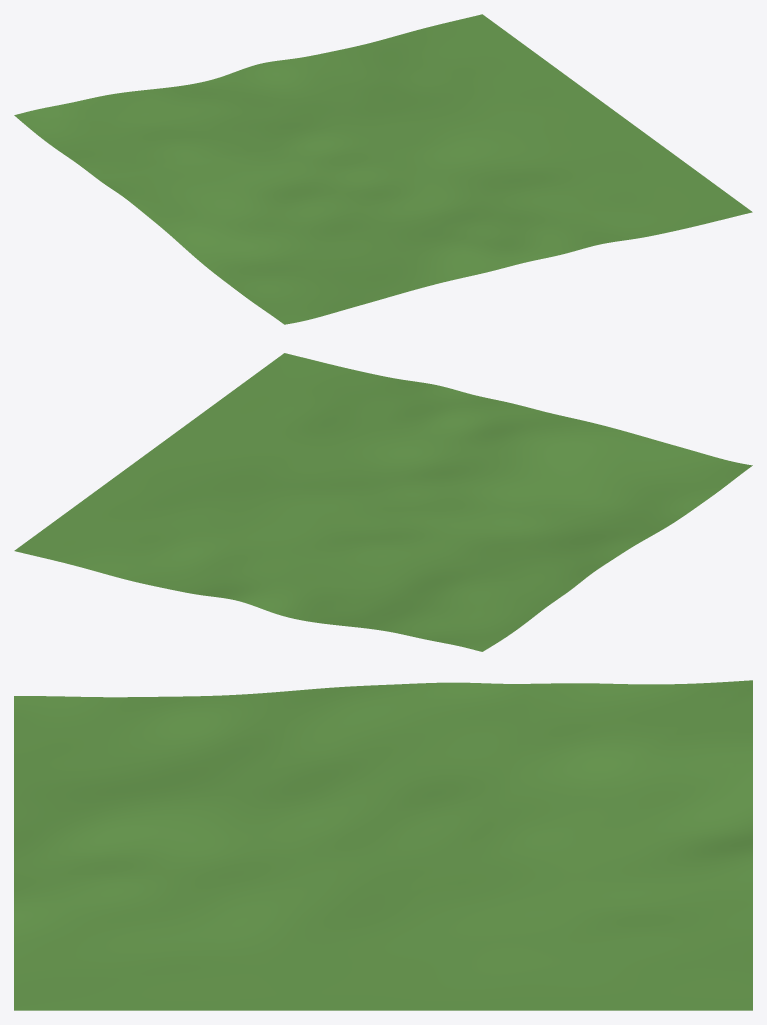
Rendered from SM_Terrain_07_06.fbx.
The picture shows the model from 3 angles, top to bottom: view 1: azimuth 30°, elevation 25°; view 2: azimuth 150°, elevation 25°; view 3: azimuth 270°, elevation 25°; orthographic projection. The views are drawn at different scales.
Parts seen in each view (by area): view 1: SM_Terrain_07_06; view 2: SM_Terrain_07_06; view 3: SM_Terrain_07_06.
Boxes of the visible parts, <box> form: SM_Terrain_07_06: <box>14,14,752,324</box>; SM_Terrain_07_06: <box>14,353,752,651</box>; SM_Terrain_07_06: <box>14,680,752,1010</box>.
Bounding box in the file's own units: 384 × 11.64 × 384.
